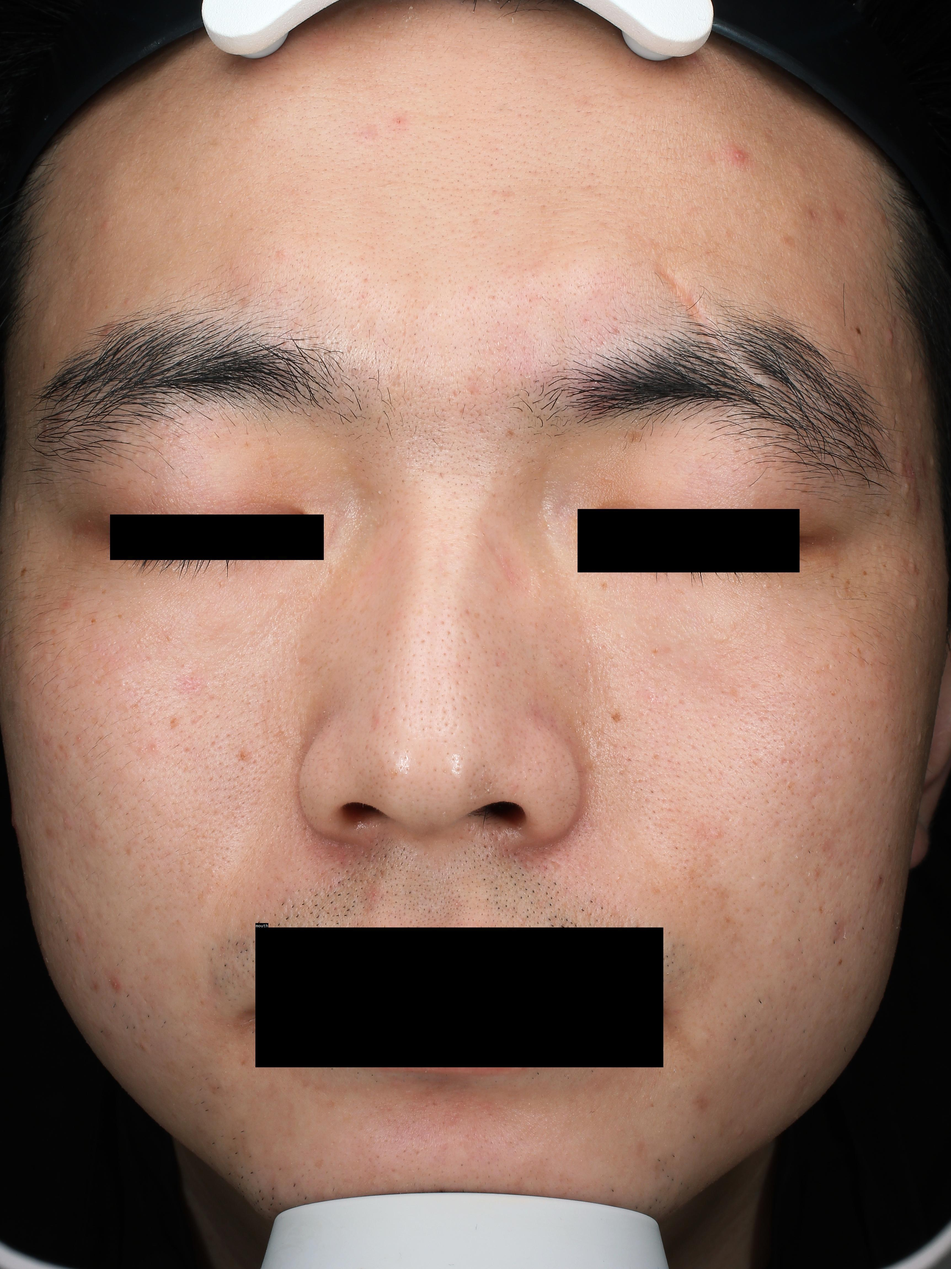atrophic_scar: (61, 882, 78, 904), (548, 858, 566, 874), (727, 684, 741, 702), (188, 714, 205, 727), (391, 373, 402, 389), (749, 681, 762, 694), (402, 322, 408, 339), (314, 1159, 324, 1168), (182, 746, 191, 755), (811, 210, 817, 219), (893, 413, 897, 426), (653, 753, 660, 760), (796, 742, 802, 750), (781, 756, 787, 764), (507, 429, 513, 436), (826, 662, 832, 669), (453, 388, 457, 397), (479, 427, 485, 433), (95, 680, 101, 686), (601, 582, 606, 588), (842, 696, 847, 702), (787, 784, 792, 789), (845, 696, 849, 701), (789, 760, 794, 764), (528, 298, 532, 302), (844, 678, 846, 683)
closed_comedo: (911, 598, 920, 610), (896, 462, 904, 473), (712, 830, 722, 838), (722, 634, 730, 641), (602, 476, 611, 482), (911, 568, 918, 575), (166, 635, 173, 642), (894, 569, 901, 576), (905, 483, 912, 490), (763, 582, 770, 588), (918, 422, 923, 430), (723, 227, 729, 233), (76, 735, 82, 740), (138, 637, 143, 643), (648, 695, 653, 700), (150, 747, 156, 751), (376, 490, 381, 494), (219, 582, 223, 586), (617, 876, 621, 880), (602, 644, 606, 648), (836, 775, 840, 779), (709, 618, 712, 622), (780, 569, 782, 573)
melasma: (629, 431, 641, 442), (612, 714, 621, 723), (885, 508, 892, 516), (91, 617, 98, 623), (100, 589, 106, 595), (117, 613, 122, 619), (863, 571, 868, 576), (845, 580, 850, 585), (883, 564, 888, 568), (830, 573, 834, 578)
nevus: (19, 567, 28, 577), (855, 327, 861, 335), (838, 958, 844, 965), (42, 362, 46, 370), (864, 594, 867, 598)
open_comedo: (413, 297, 419, 304), (793, 713, 796, 716), (469, 287, 472, 290), (786, 771, 788, 773)
other: (643, 263, 766, 396)
papule: (886, 328, 895, 346), (733, 150, 746, 161), (75, 928, 85, 941), (914, 497, 922, 513), (138, 1042, 148, 1052), (12, 498, 19, 511), (102, 219, 111, 229), (849, 347, 857, 358), (111, 980, 117, 988), (738, 1130, 744, 1135), (910, 372, 913, 382), (125, 299, 130, 305), (920, 371, 923, 380)
